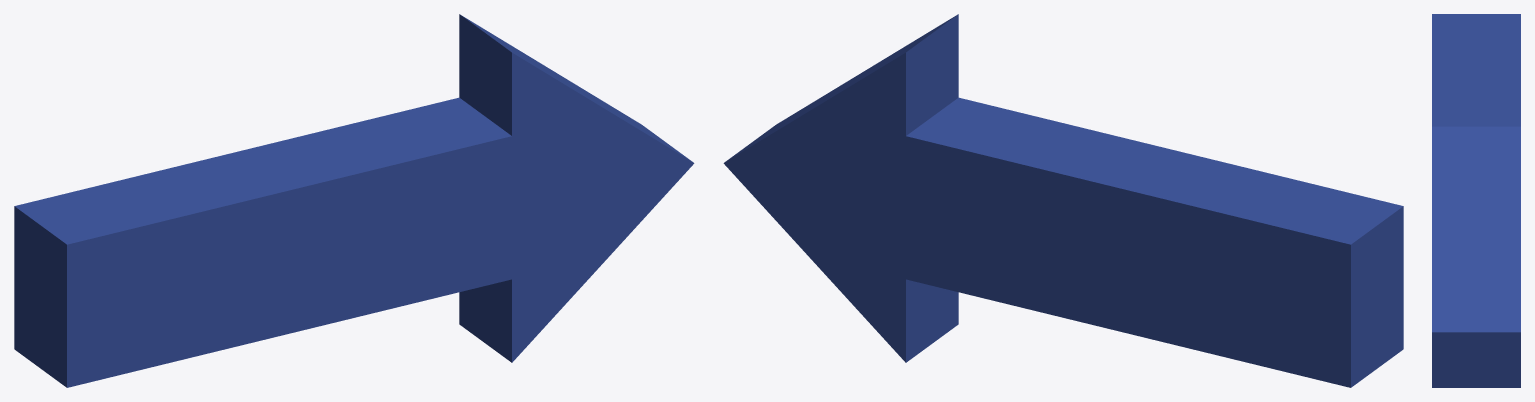
Rendered from simple_arrow.obj.
The picture shows the model from 3 angles, left to right: view 1: azimuth 30°, elevation 25°; view 2: azimuth 150°, elevation 25°; view 3: azimuth 270°, elevation 25°; orthographic projection. The views are drawn at different scales.
Parts seen in each view (by area): view 1: obj_0; view 2: obj_0; view 3: obj_0.
Part boxes in pixels (x1,y1,x2,y2): obj_0: [14, 14, 694, 387]; obj_0: [723, 14, 1403, 387]; obj_0: [1432, 14, 1520, 387].
Bounding box in the file's own units: 27.5 × 13 × 4.
